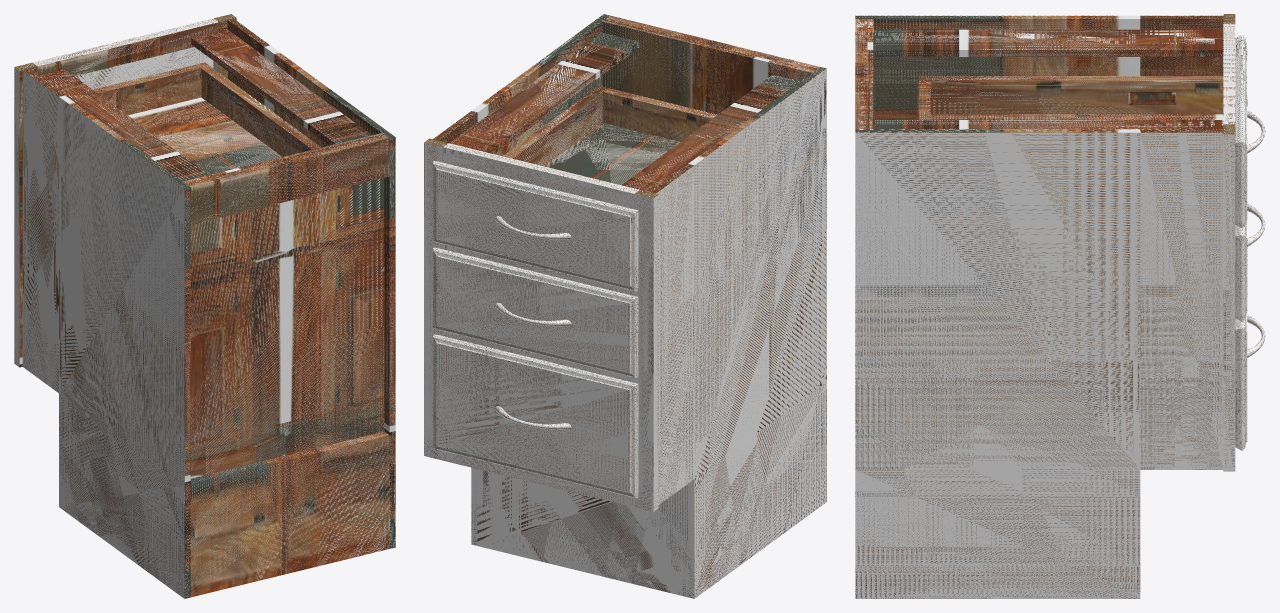
3 views of the same model, side by side, from view 1: azimuth 30°, elevation 25°; view 2: azimuth 150°, elevation 25°; view 3: azimuth 270°, elevation 25° (orthographic). The views are drawn at different scales.
Parts seen in each view (by area): view 1: mesh4_mesh4-geometry, mesh7_mesh7-geometry, mesh12_mesh12-geometry, mesh8_mesh8-geometry, mesh6_mesh6-geometry, mesh3_mesh3-geometry, mesh14_mesh14-geometry, mesh21_mesh21-geometry, mesh10_mesh10-geometry, mesh5_mesh5-geometry, mesh18_mesh18-geometry, mesh15_mesh15-geometry (+6 smaller); view 2: mesh28_mesh28-geometry, mesh7_mesh7-geometry, mesh13_mesh13-geometry, mesh8_mesh8-geometry, mesh6_mesh6-geometry, mesh2_mesh2-geometry, mesh4_mesh4-geometry, mesh14_mesh14-geometry, mesh5_mesh5-geometry, mesh29_mesh29-geometry, mesh21_mesh21-geometry, mesh15_mesh15-geometry (+12 smaller); view 3: mesh10_mesh10-geometry, mesh11_mesh11-geometry, mesh9_mesh9-geometry, mesh7_mesh7-geometry, mesh18_mesh18-geometry, mesh15_mesh15-geometry, mesh2_mesh2-geometry, mesh14_mesh14-geometry, mesh31_mesh31-geometry, mesh6_mesh6-geometry, mesh21_mesh21-geometry, mesh29_mesh29-geometry (+5 smaller).
Boxes of the visible parts, left/top/right/bottom form: mesh4_mesh4-geometry: left=183, top=133, right=384, bottom=478; mesh7_mesh7-geometry: left=59, top=95, right=190, bottom=485; mesh12_mesh12-geometry: left=190, top=431, right=389, bottom=597; mesh8_mesh8-geometry: left=59, top=394, right=190, bottom=598; mesh6_mesh6-geometry: left=22, top=68, right=64, bottom=392; mesh3_mesh3-geometry: left=186, top=134, right=389, bottom=224; mesh14_mesh14-geometry: left=191, top=29, right=371, bottom=145; mesh21_mesh21-geometry: left=128, top=97, right=281, bottom=174; mesh10_mesh10-geometry: left=264, top=45, right=395, bottom=435; mesh5_mesh5-geometry: left=32, top=18, right=218, bottom=76; mesh18_mesh18-geometry: left=196, top=62, right=321, bottom=156; mesh15_mesh15-geometry: left=38, top=69, right=208, bottom=181; mesh28_mesh28-geometry: left=438, top=171, right=627, bottom=491; mesh7_mesh7-geometry: left=688, top=67, right=826, bottom=478; mesh13_mesh13-geometry: left=477, top=469, right=687, bottom=597; mesh8_mesh8-geometry: left=688, top=382, right=826, bottom=598; mesh6_mesh6-geometry: left=650, top=164, right=694, bottom=504; mesh2_mesh2-geometry: left=424, top=138, right=658, bottom=511; mesh4_mesh4-geometry: left=602, top=19, right=814, bottom=114; mesh14_mesh14-geometry: left=450, top=32, right=639, bottom=154; mesh5_mesh5-geometry: left=443, top=143, right=639, bottom=506; mesh29_mesh29-geometry: left=438, top=162, right=632, bottom=390; mesh21_mesh21-geometry: left=544, top=123, right=679, bottom=185; mesh15_mesh15-geometry: left=622, top=74, right=800, bottom=191; mesh10_mesh10-geometry: left=855, top=129, right=1140, bottom=469; mesh11_mesh11-geometry: left=855, top=470, right=1140, bottom=598; mesh9_mesh9-geometry: left=1140, top=129, right=1223, bottom=469; mesh7_mesh7-geometry: left=855, top=15, right=1140, bottom=129; mesh18_mesh18-geometry: left=918, top=76, right=1223, bottom=114; mesh15_mesh15-geometry: left=875, top=29, right=1223, bottom=56; mesh2_mesh2-geometry: left=1223, top=14, right=1235, bottom=471; mesh14_mesh14-geometry: left=875, top=120, right=1223, bottom=129; mesh31_mesh31-geometry: left=1235, top=146, right=1247, bottom=443; mesh6_mesh6-geometry: left=1140, top=15, right=1223, bottom=75; mesh21_mesh21-geometry: left=930, top=114, right=1223, bottom=119; mesh29_mesh29-geometry: left=1235, top=39, right=1247, bottom=329.
Bounding box in the file's own units: 0.3974 × 0.7176 × 0.572.
